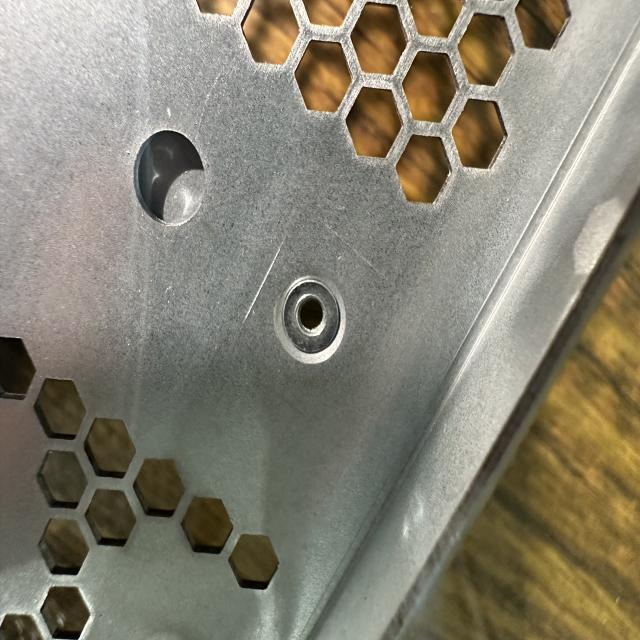Missing screw: (269, 266, 355, 377)
